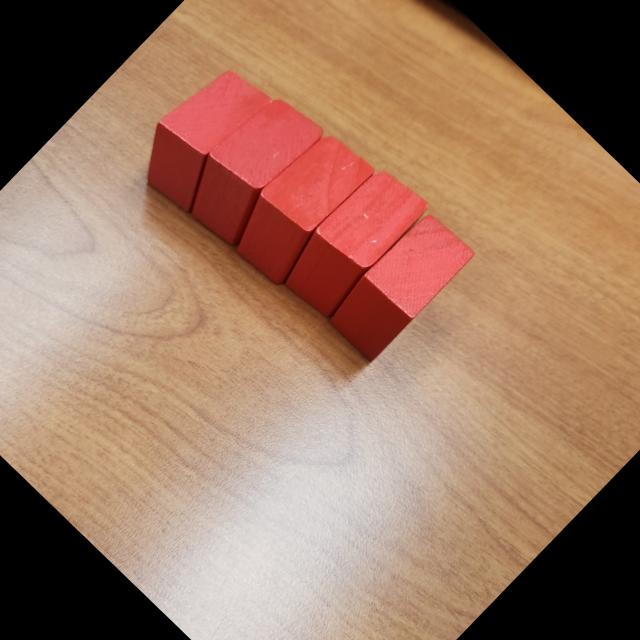red: (166, 81, 339, 256), (214, 120, 386, 294), (120, 52, 287, 222), (271, 159, 433, 323), (321, 207, 478, 366)
